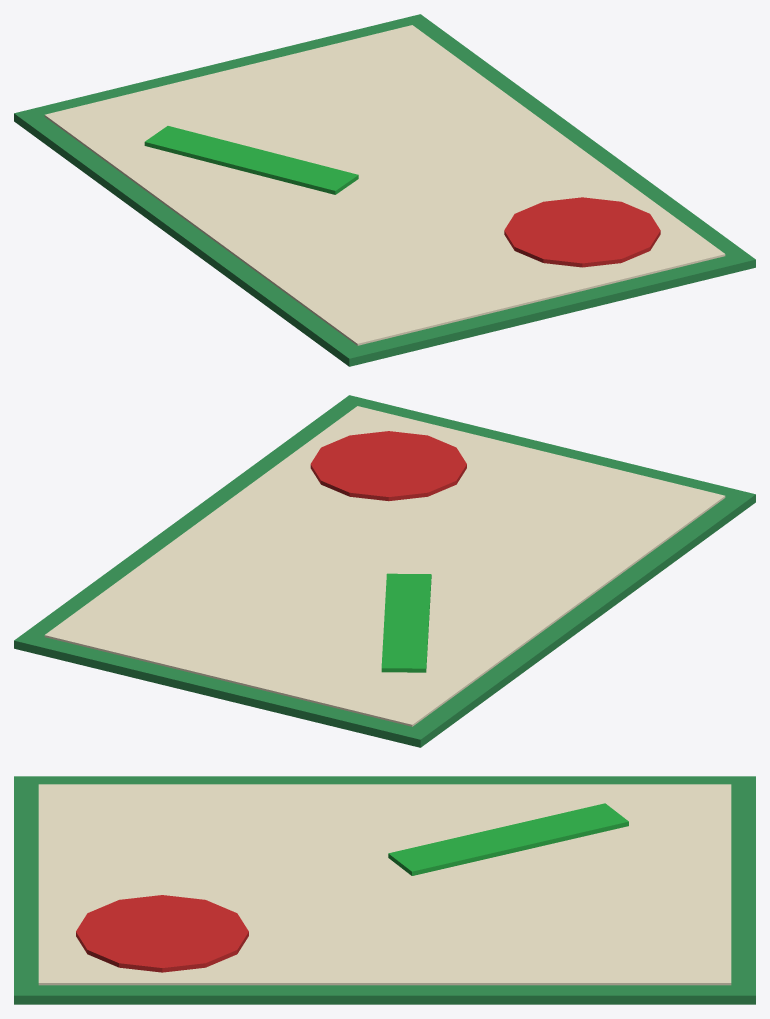
The model's file is carwash_export_permit.glb.
The picture shows the model from 3 angles, top to bottom: view 1: azimuth 30°, elevation 25°; view 2: azimuth 150°, elevation 25°; view 3: azimuth 270°, elevation 25°; orthographic projection. The views are drawn at different scales.
Visible parts, largest first — view 1: paper_permit_paper, paper_permit_border, stamp_permit_stamp, feather_permit_feather; view 2: paper_permit_paper, paper_permit_border, stamp_permit_stamp, feather_permit_feather; view 3: paper_permit_paper, paper_permit_border, stamp_permit_stamp, feather_permit_feather.
Boxes of the visible parts, <box> form: paper_permit_paper: <box>44,25,725,345</box>; paper_permit_border: <box>14,14,755,366</box>; stamp_permit_stamp: <box>504,197,660,267</box>; feather_permit_feather: <box>144,126,358,194</box>; paper_permit_paper: <box>44,406,725,726</box>; paper_permit_border: <box>14,395,755,747</box>; stamp_permit_stamp: <box>310,431,466,501</box>; feather_permit_feather: <box>381,573,431,672</box>; paper_permit_paper: <box>38,784,731,985</box>; paper_permit_border: <box>14,776,755,1004</box>; stamp_permit_stamp: <box>76,895,248,972</box>; feather_permit_feather: <box>388,803,628,875</box>.
Size of the model in its own units: 0.21 by 0.007 by 0.3.
